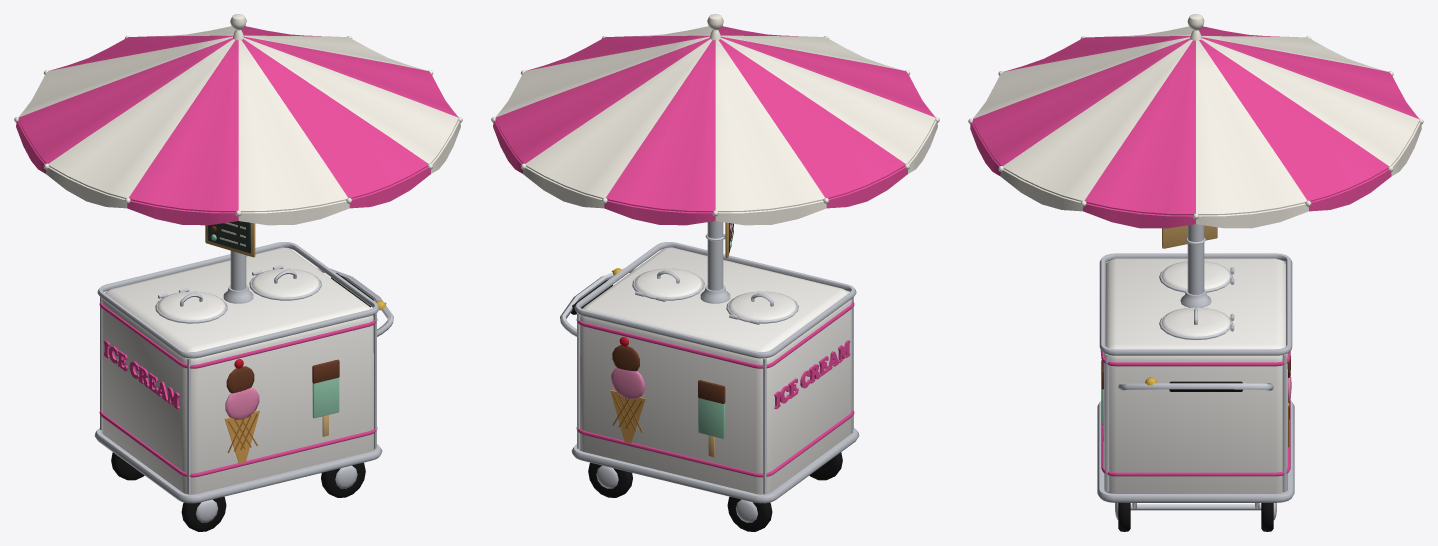
Rendered from ice_cream_cart.glb.
3 renders of one model, left to right at view 1: azimuth 30°, elevation 25°; view 2: azimuth 150°, elevation 25°; view 3: azimuth 270°, elevation 25°, orthographic.
Visible parts, largest first — view 1: IceCreamCart; view 2: IceCreamCart; view 3: IceCreamCart.
Part boxes in pixels (x1,y1,x2,y2): IceCreamCart: [14, 14, 462, 531]; IceCreamCart: [491, 14, 939, 531]; IceCreamCart: [968, 14, 1423, 531].
Bounding box in the file's own units: 2.23 × 2.6 × 2.23.
